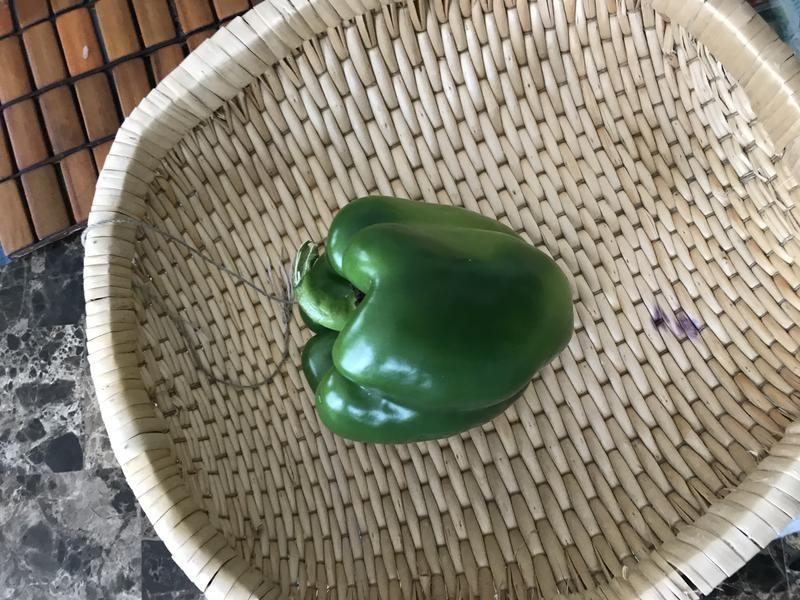green_pepper: (282, 191, 584, 455)
